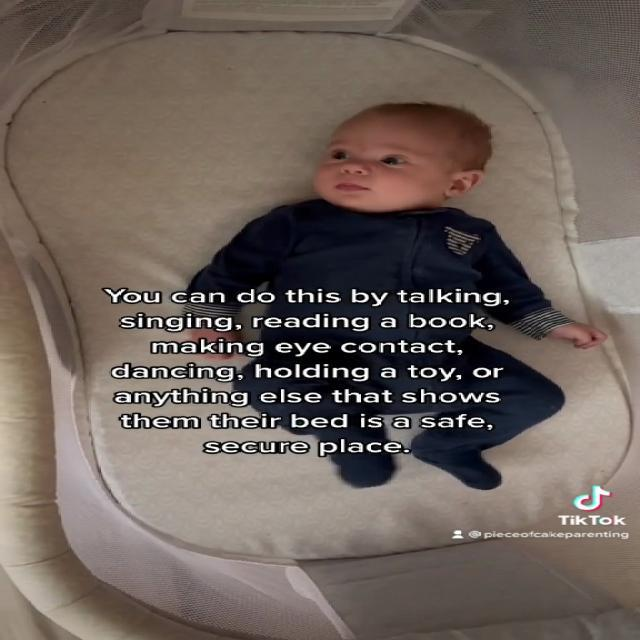baby: (172, 90, 615, 498)
